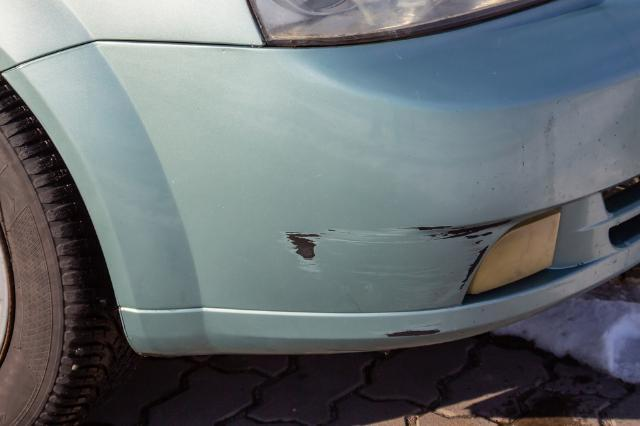Bumper: (270, 198, 520, 346)
